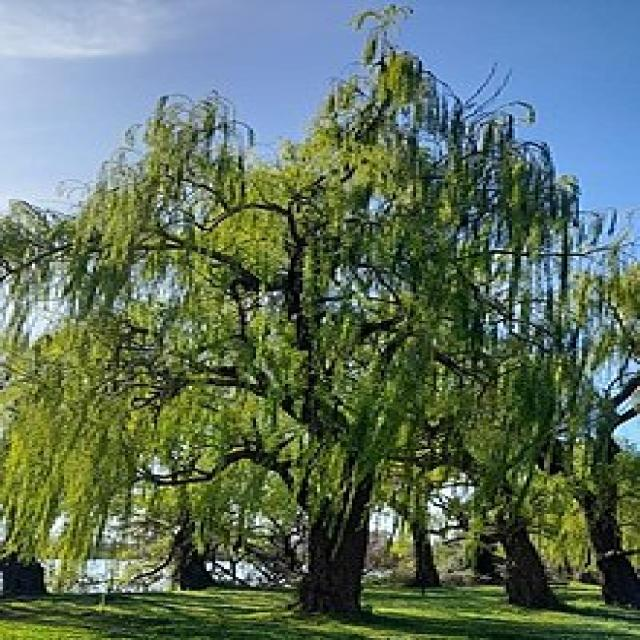cauce: (0, 15, 622, 626)
